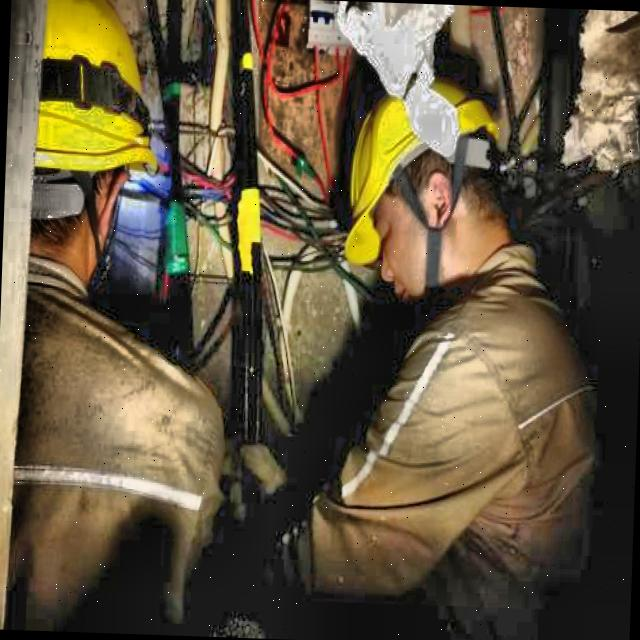helmet: (20, 0, 165, 269), (345, 74, 509, 303)
